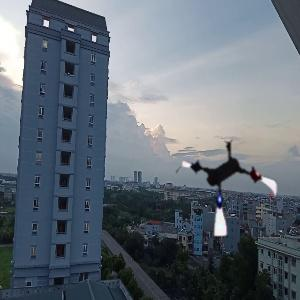drone: (174, 135, 282, 243)
